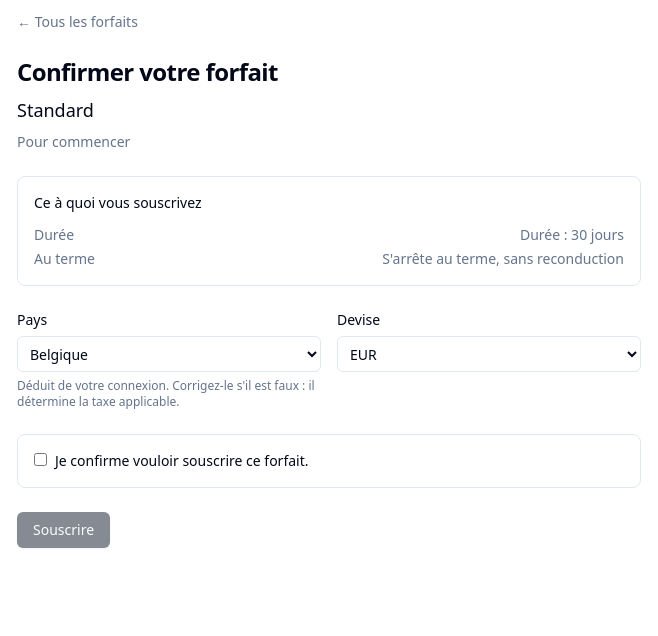
Test: SouscriptionPage › affiche le refus du serveur tel quel
Click the checkbox. click: (40, 460)
box: x1=34 y1=453 x2=47 y2=466
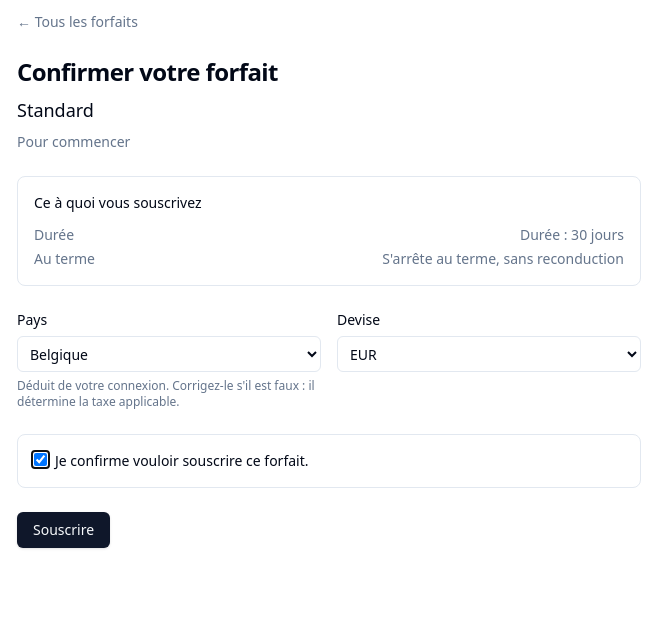
Click the button "Souscrire". click: (64, 530)
box: x1=17 y1=512 x2=110 y2=548
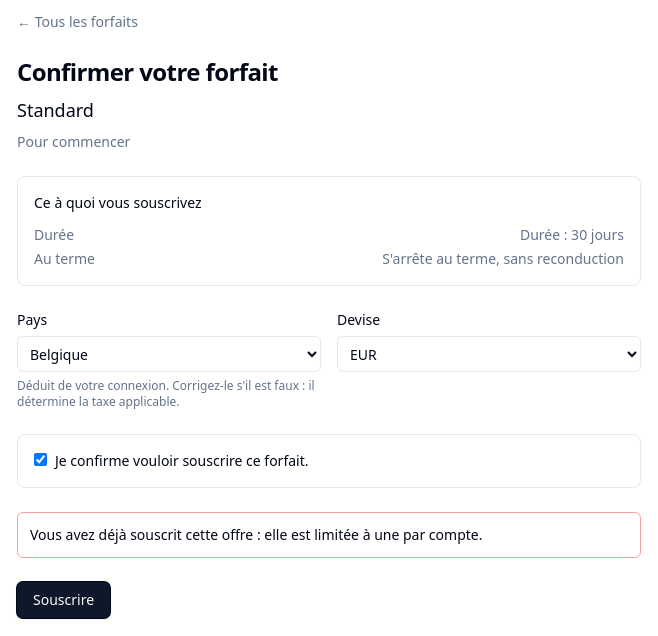
Expected: the message shows "une par compte", x1=30 y1=525 x2=482 y2=544
